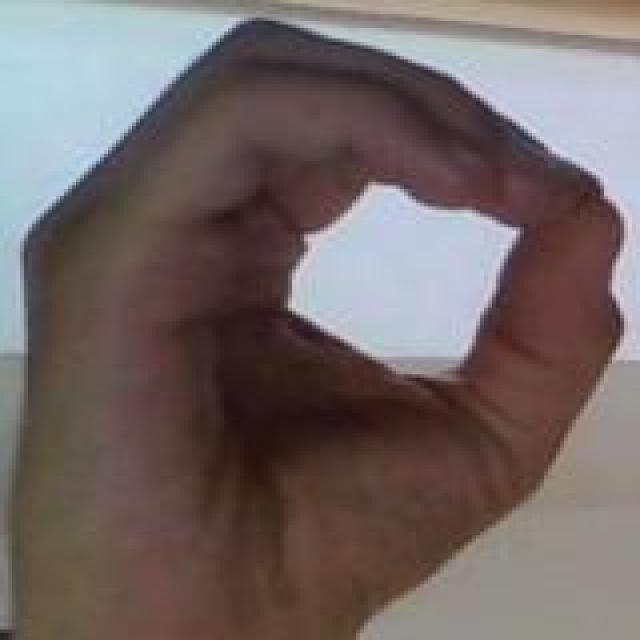O: (2, 5, 636, 614)
